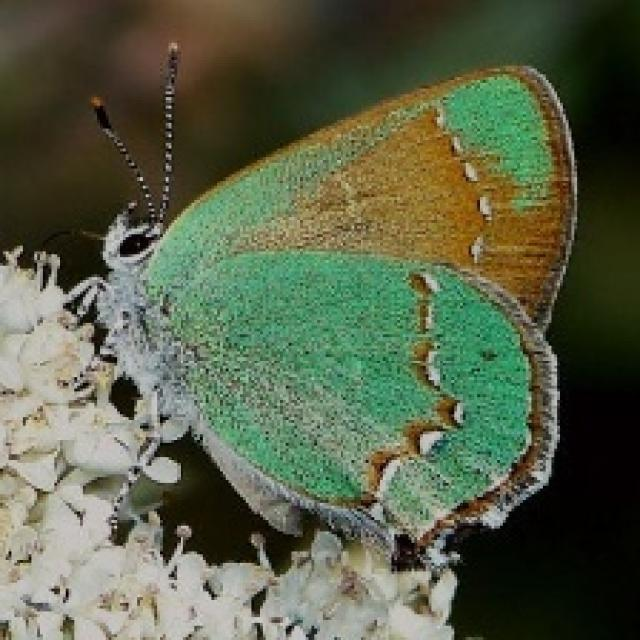butterfly: (31, 37, 580, 574)
